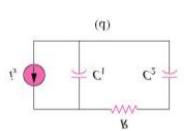Capacitor: (67, 59, 91, 83)
